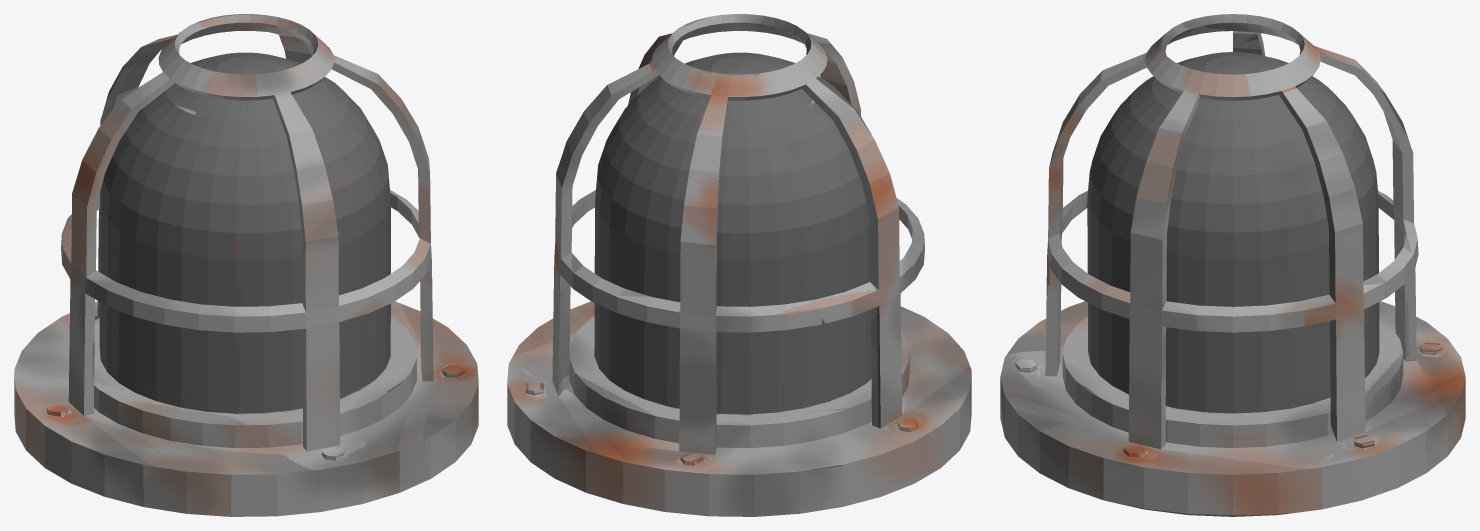
The model's file is Alert Light.fbx.
3 renders of one model, left to right at view 1: azimuth 30°, elevation 25°; view 2: azimuth 150°, elevation 25°; view 3: azimuth 270°, elevation 25°, orthographic.
Parts seen in each view (by area): view 1: Cylinder.001; view 2: Cylinder.001; view 3: Cylinder.001.
Part boxes in pixels (x1,y1,x2,y2): Cylinder.001: (14, 14, 478, 516); Cylinder.001: (507, 14, 971, 516); Cylinder.001: (1000, 14, 1465, 516).
Bounding box in the file's own units: 200 × 178 × 200.
1 material, 1 textured.
